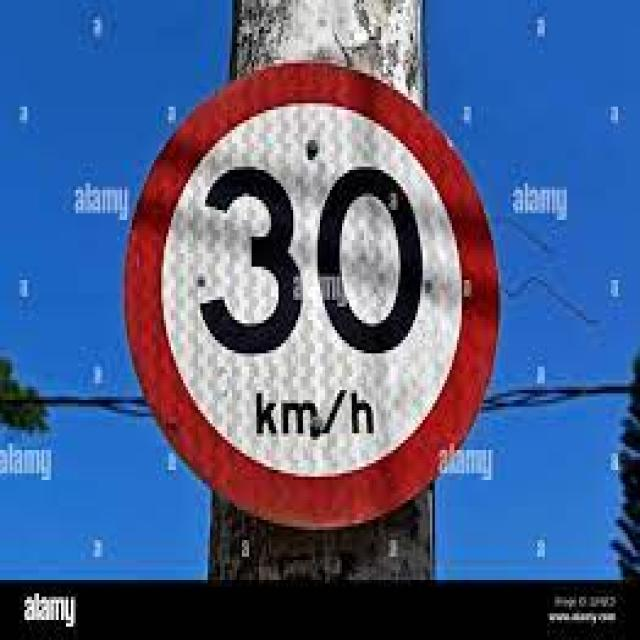SPEED_LIMIT_30: (122, 51, 504, 533)
